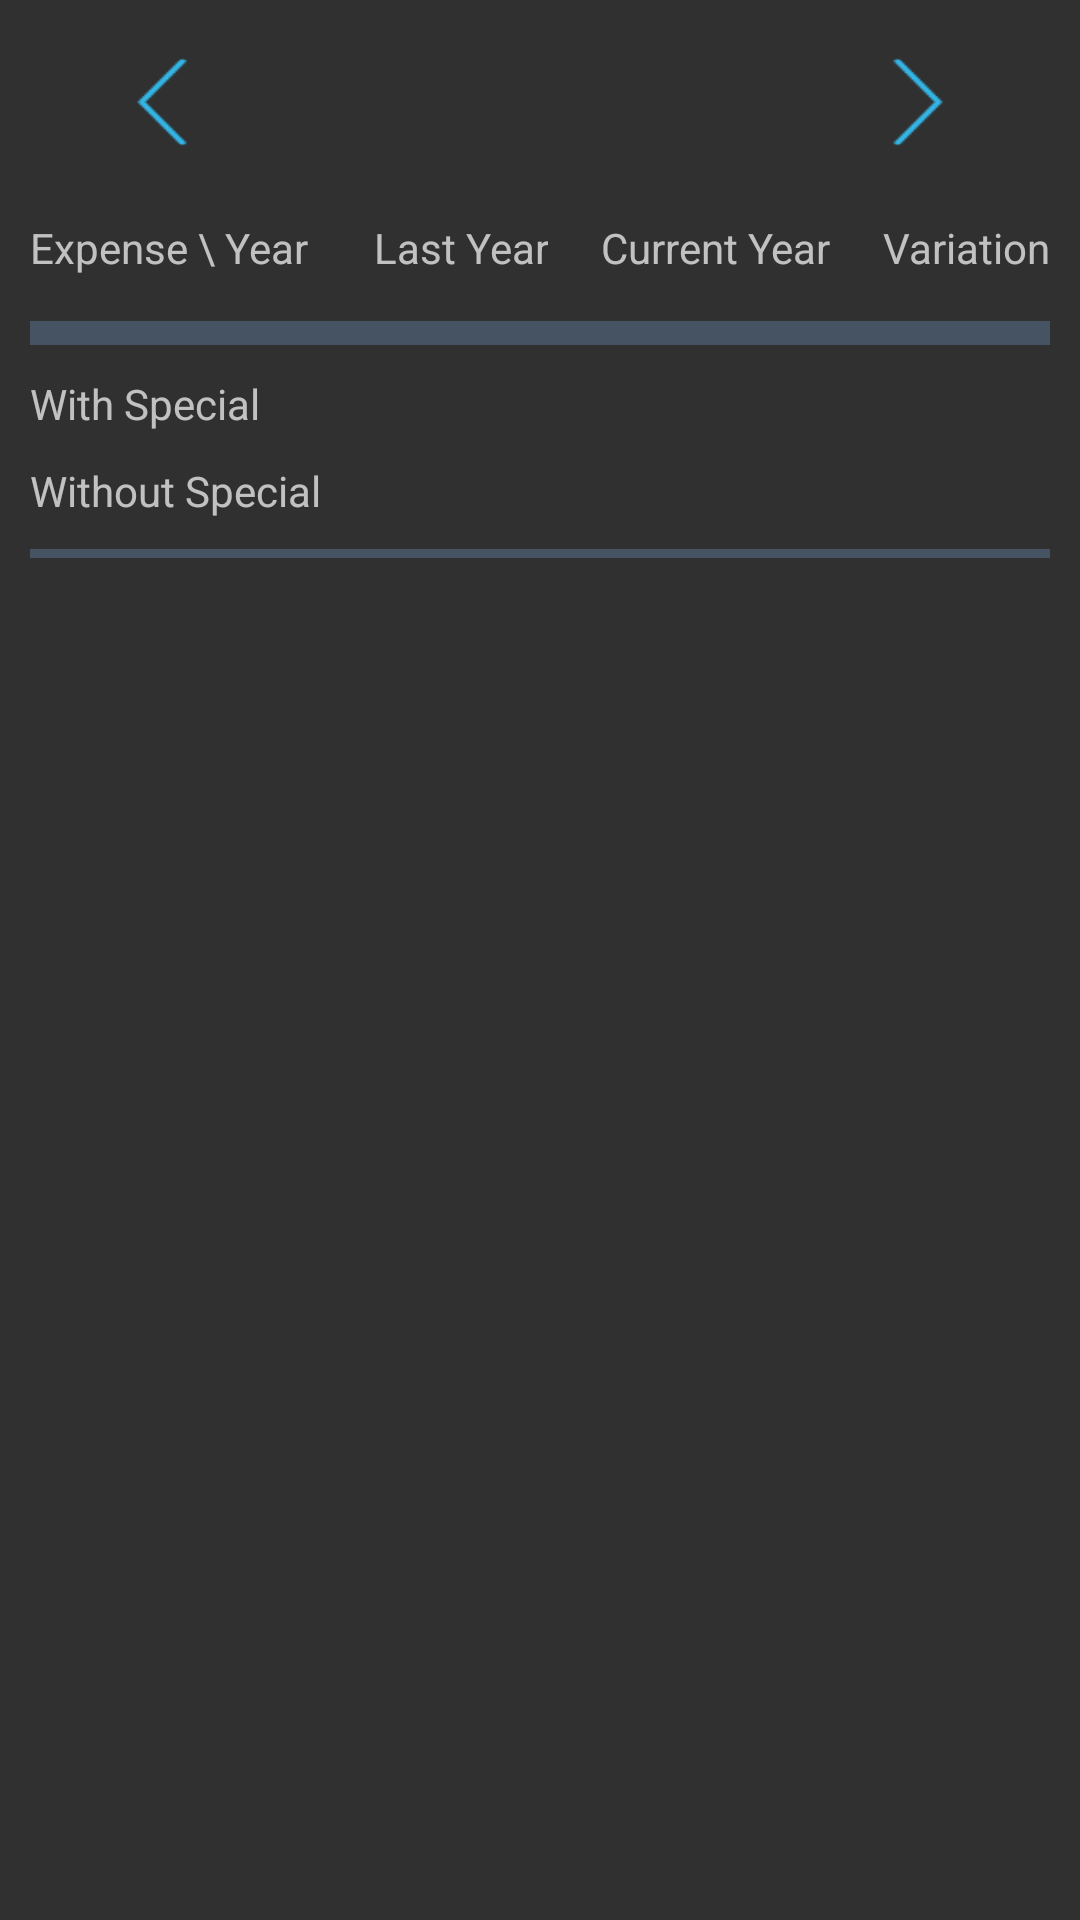

Named icons in this screenshot (1080×1920) and their bounding boxes, (x1, y1, x2, y2):
arrow left: (137, 59, 187, 145)
arrow right: (893, 59, 943, 145)
